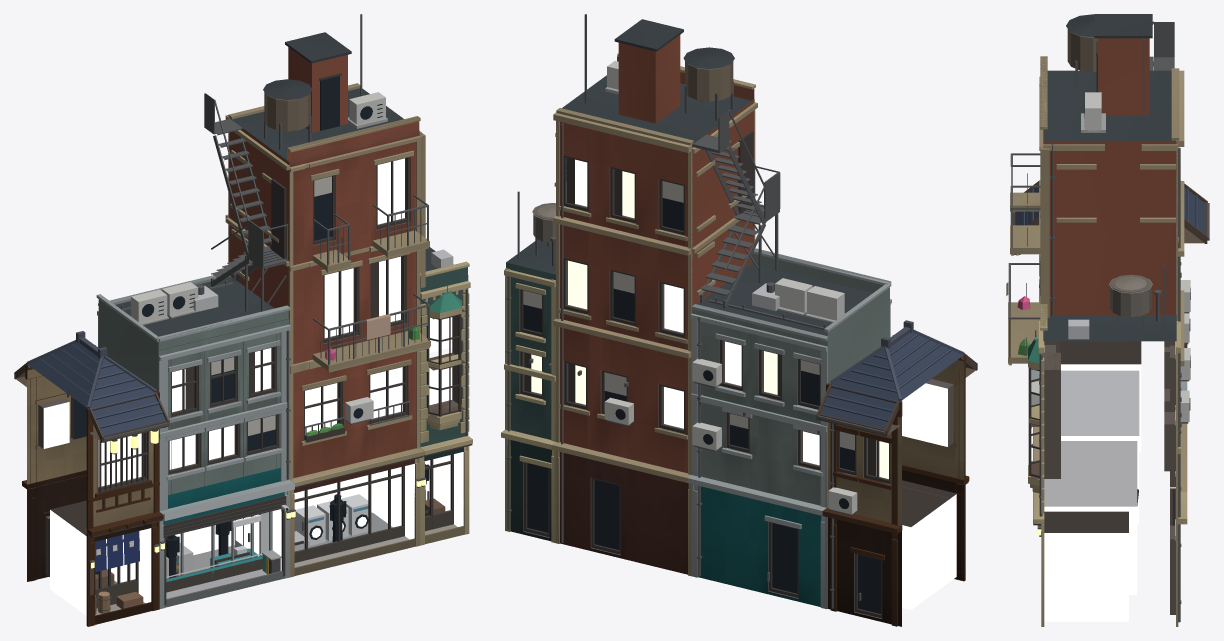
File: shoprow221.glb
3 views of the same model, side by side, from view 1: azimuth 30°, elevation 25°; view 2: azimuth 150°, elevation 25°; view 3: azimuth 270°, elevation 25° (orthographic). The views are drawn at different scales.
Visible parts, largest first — view 1: r221-h11-wall, r221-h11-trim, r221-h10-trim, r221-h10-wall, r221-h11-steel, r221-h15-wall2, r221-h11-frame, r221-h15-roof, r221-h10-wall2, r221-h15-trim, r221-h16-trim, r221-h10-frame (+25 smaller); view 2: r221-h11-wall, r221-h10-wall, r221-h10-trim, r221-h11-wall2, r221-h11-trim, r221-h10-wall2, r221-h15-wall2, r221-h11-steel, r221-h15-roof, r221-h11-roof, r221-h15-trim, r221-h11-frame (+22 smaller); view 3: r221-h11-wall, r221-h11-trim, r221-h11-roof, r221-h16-shop, r221-h16-wall2, r221-h11-wall2, r221-h10-wall2, r221-h16-trim, r221-h11-steel, r221-h16-roof, r221-h15-wall2, r221-h16-steel (+7 smaller).
Part boxes in pixels (left/top/right/bottom): r221-h11-wall: left=229, top=47, right=419, bottom=478; r221-h11-trim: left=225, top=83, right=430, bottom=577; r221-h10-trim: left=96, top=275, right=294, bottom=608; r221-h10-wall: left=98, top=299, right=289, bottom=494; r221-h11-steel: left=204, top=14, right=429, bottom=530; r221-h15-wall2: left=14, top=363, right=169, bottom=614; r221-h11-frame: left=271, top=73, right=423, bottom=559; r221-h15-roof: left=27, top=331, right=165, bottom=435; r221-h10-wall2: left=163, top=333, right=284, bottom=592; r221-h15-trim: left=22, top=364, right=165, bottom=626; r221-h16-trim: left=420, top=249, right=472, bottom=545; r221-h10-frame: left=163, top=346, right=286, bottom=605; r221-h11-wall: left=560, top=35, right=754, bottom=473; r221-h10-wall: left=692, top=253, right=889, bottom=505; r221-h10-trim: left=687, top=251, right=891, bottom=609; r221-h11-wall2: left=560, top=61, right=733, bottom=574; r221-h11-trim: left=551, top=54, right=757, bottom=575; r221-h10-wall2: left=698, top=339, right=821, bottom=606; r221-h15-wall2: left=816, top=353, right=977, bottom=626; r221-h11-steel: left=561, top=14, right=780, bottom=542; r221-h15-roof: left=820, top=320, right=970, bottom=429; r221-h11-roof: left=562, top=19, right=755, bottom=144; r221-h15-trim: left=822, top=354, right=969, bottom=626; r221-h11-frame: left=563, top=131, right=753, bottom=554; r221-h11-wall: left=1006, top=38, right=1176, bottom=314; r221-h11-trim: left=1008, top=56, right=1189, bottom=492; r221-h11-roof: left=1040, top=14, right=1175, bottom=140; r221-h16-shop: left=1044, top=533, right=1128, bottom=621; r221-h16-wall2: left=1031, top=274, right=1175, bottom=614; r221-h11-wall2: left=1044, top=29, right=1175, bottom=525; r221-h10-wall2: left=1061, top=370, right=1175, bottom=487; r221-h16-trim: left=1028, top=304, right=1187, bottom=626; r221-h11-steel: left=1008, top=21, right=1188, bottom=533; r221-h16-roof: left=1028, top=304, right=1176, bottom=363; r221-h15-wall2: left=1013, top=181, right=1207, bottom=364; r221-h16-steel: left=1035, top=265, right=1181, bottom=622.
Size of the model in its own units: 11.7 by 14.68 by 4.87.
